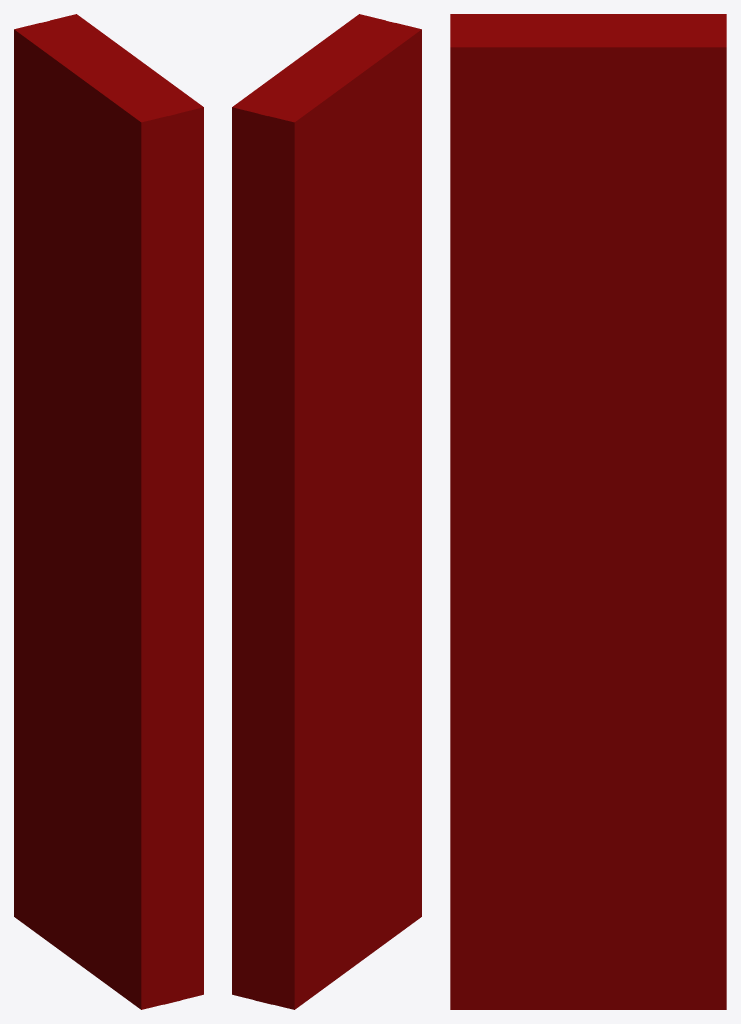
Rendered from SM_Panneau_big1.fbx.
3 views of the same model, side by side, from view 1: azimuth 30°, elevation 25°; view 2: azimuth 150°, elevation 25°; view 3: azimuth 270°, elevation 25° (orthographic). The views are drawn at different scales.
Visible parts, largest first — view 1: Panneau_big1; view 2: Panneau_big1; view 3: Panneau_big1.
Boxes of the visible parts, left/top/right/bottom form: Panneau_big1: left=14, top=14, right=203, bottom=1009; Panneau_big1: left=232, top=14, right=421, bottom=1009; Panneau_big1: left=450, top=14, right=726, bottom=1009.
Bounding box in the file's own units: 18.82 × 255 × 66.25.
